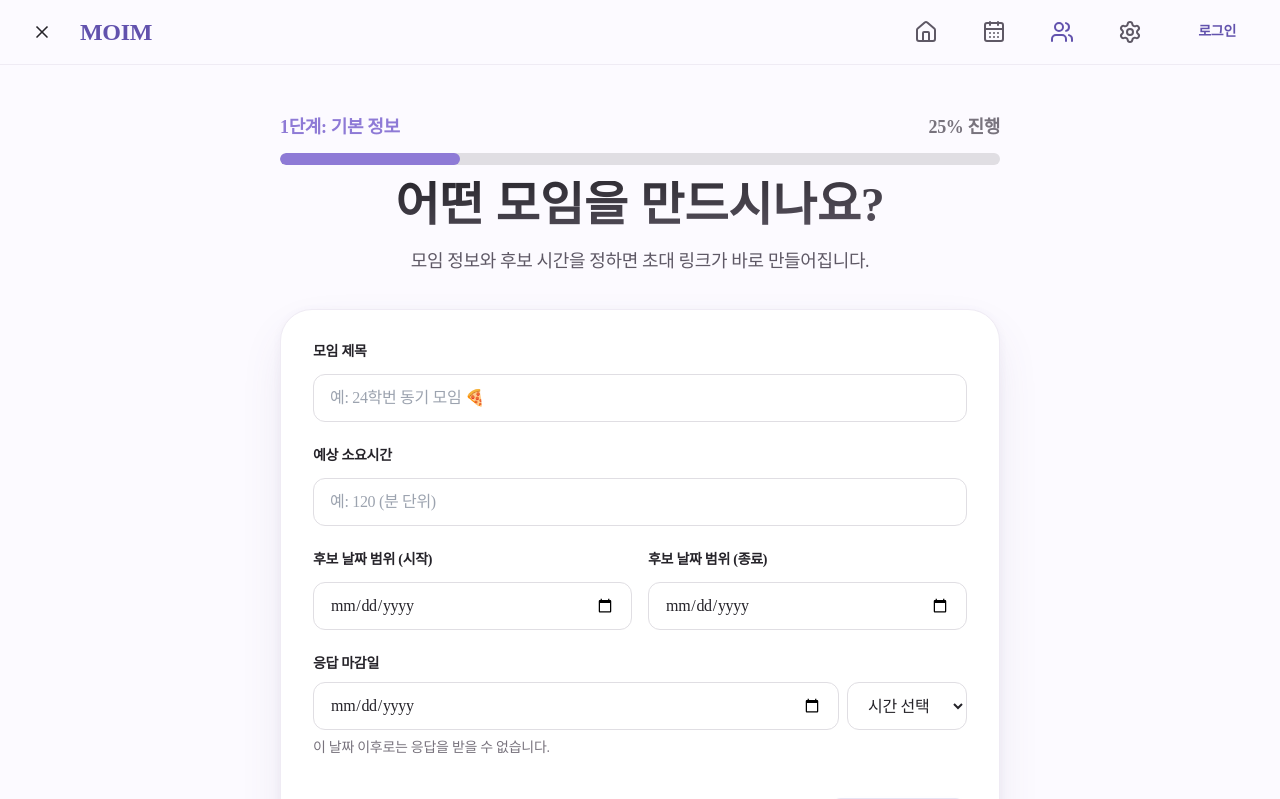
CreateScheduleClient 복사 피드백 › 링크 입력칸 안의 복사 아이콘 클릭 시 클립보드에 쓰고 '복사됨' 상태가 된다
The width and height of the screenshot is (1280, 799).
Type "60" into the number field labelled "예상 소요시간" at x=640, y=502, box [313,478,967,526]
(page scrolled)
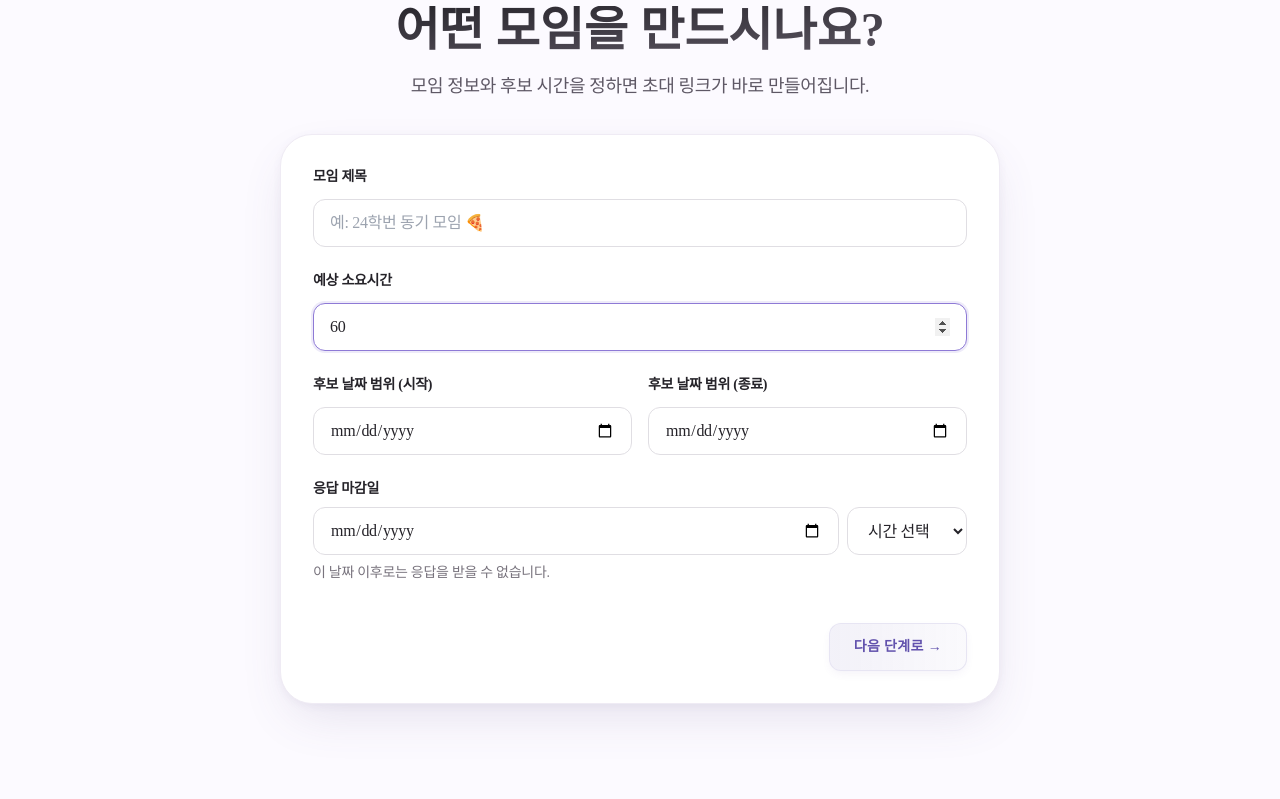
Click the button "다음 단계로 →" at x=898, y=647, box [829,623,967,671]
(page scrolled)
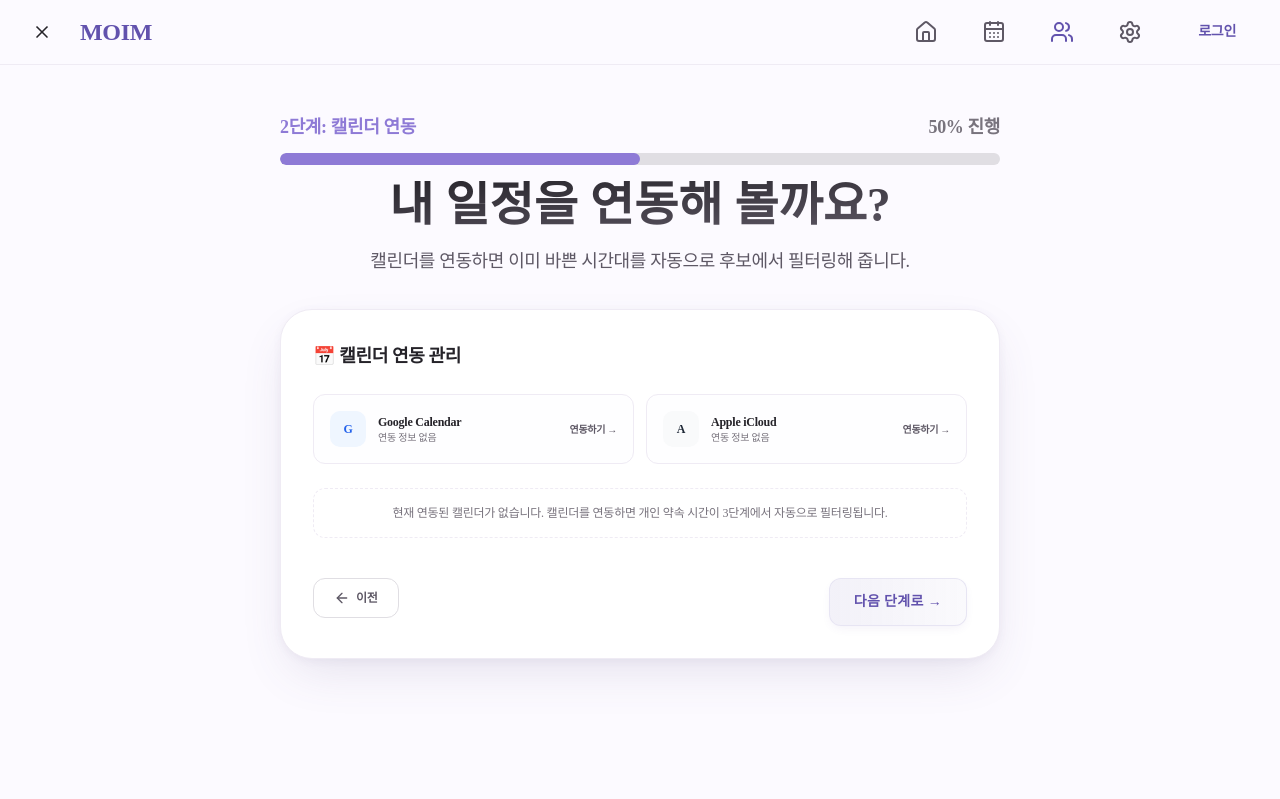
Click the button "다음 단계로 →" at x=898, y=602, box [829,578,967,626]
(page scrolled)
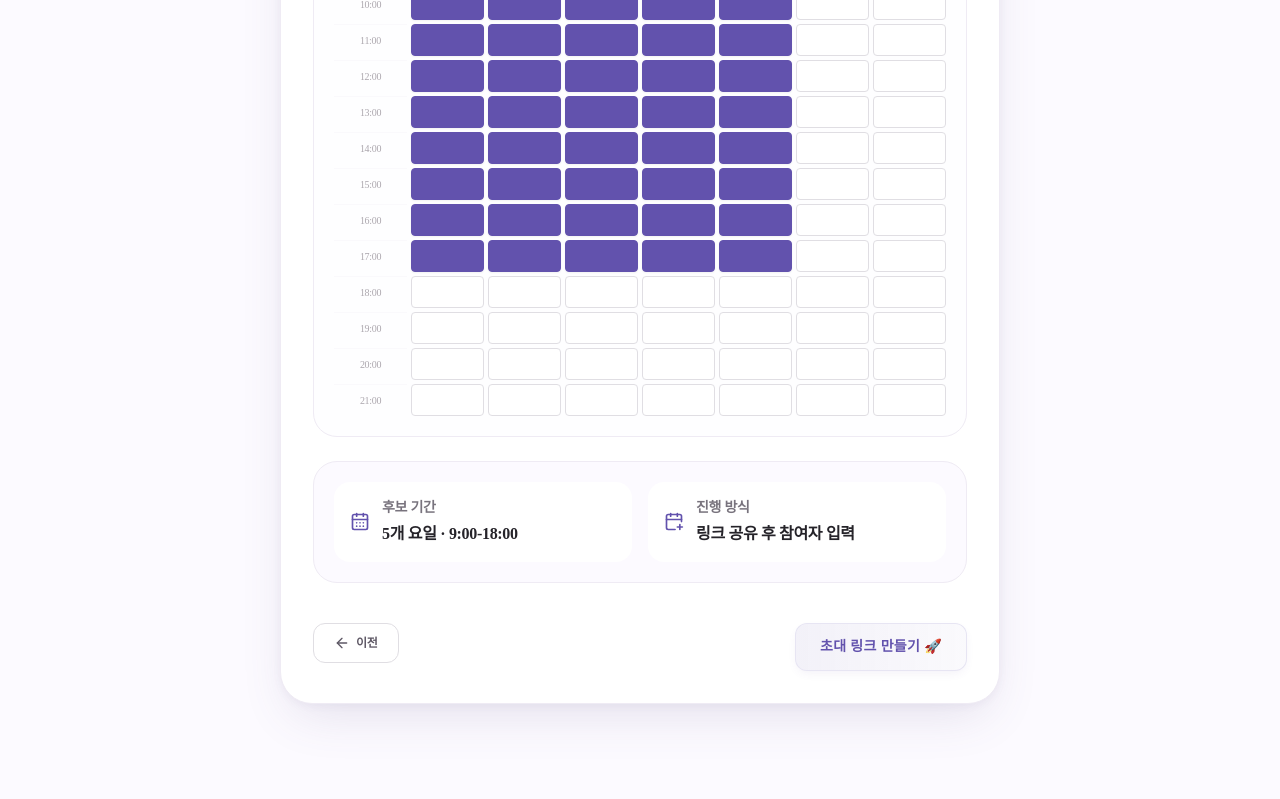
Click the button "초대 링크 만들기 🚀" at x=881, y=647, box [795,623,967,671]
(page scrolled)
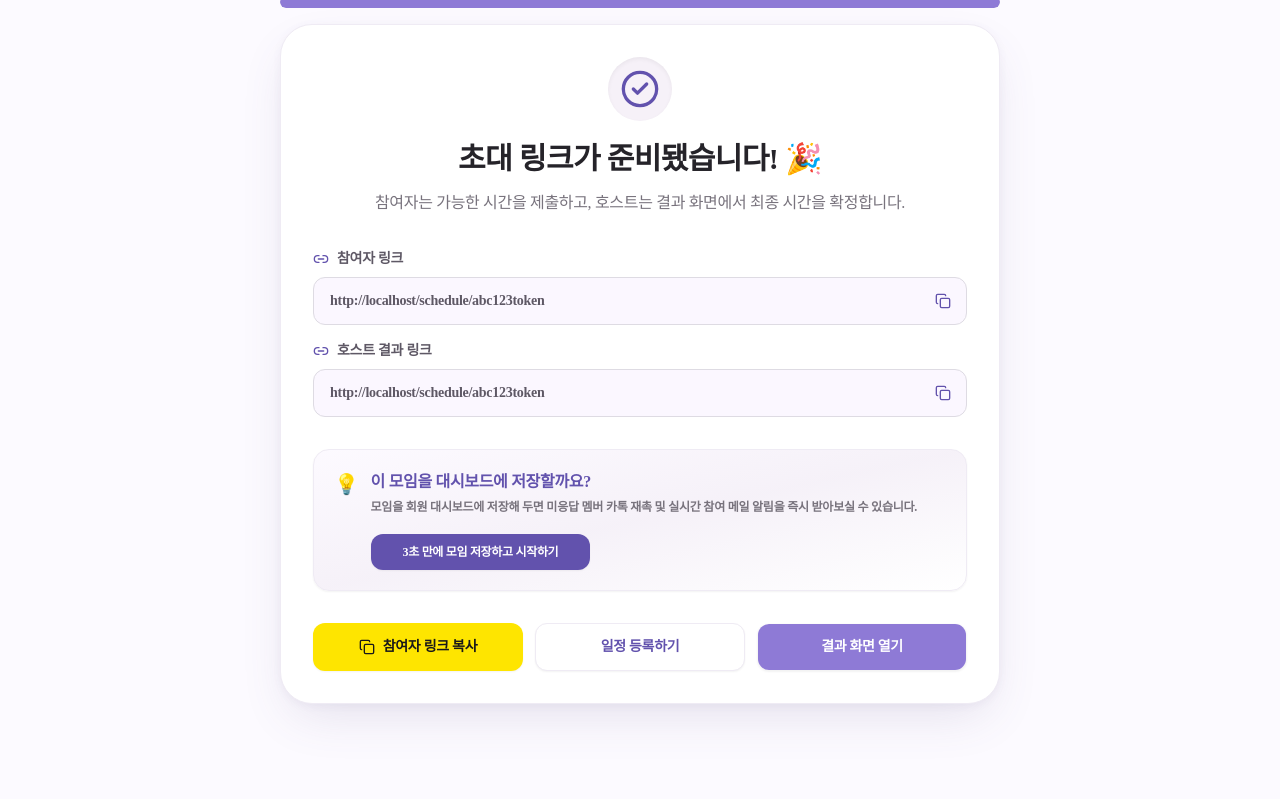
expect the heading "초대 링크가 준비됐습니다! 🎉" is shown: met, box [458,142,822,175]
Click the button named "호스트 결과 링크 복사" at x=943, y=393, box [927,377,959,409]
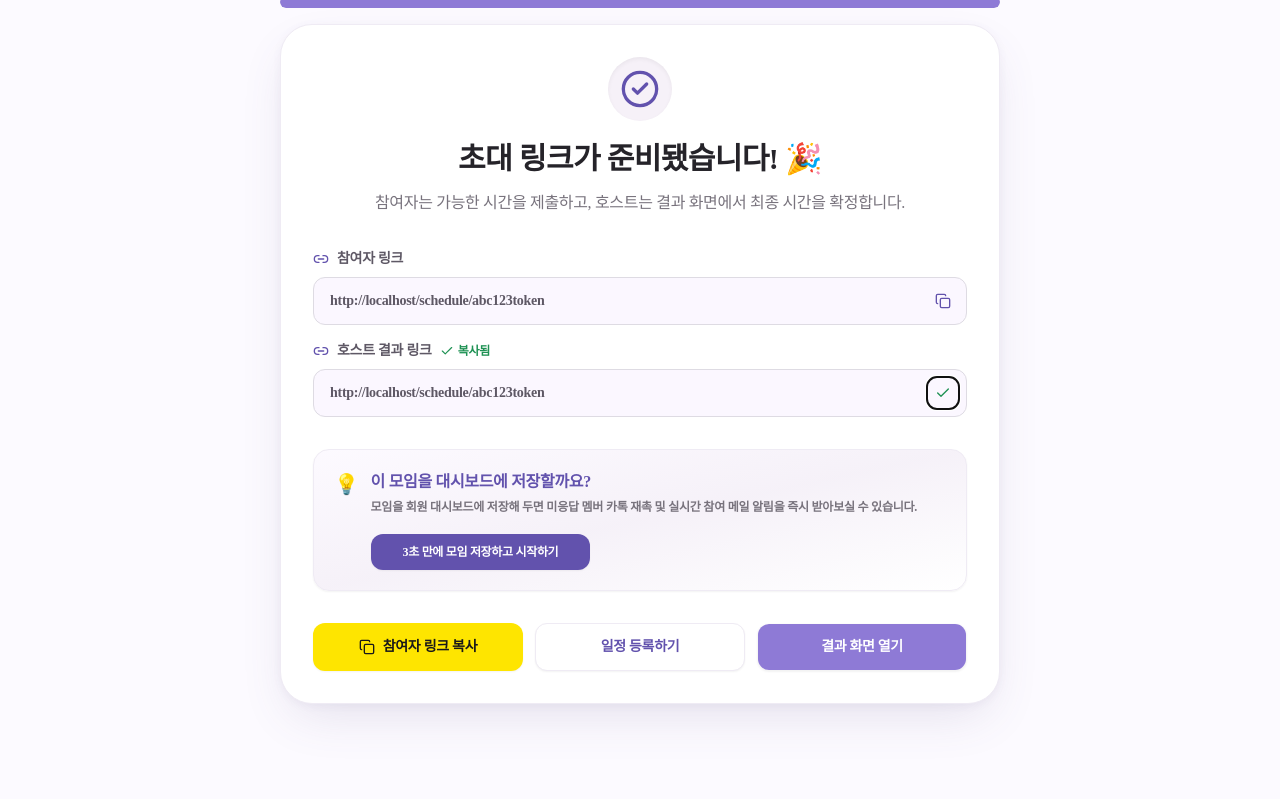
expect the button named "호스트 결과 링크 복사됨" is shown: met, box [927,377,959,409]
